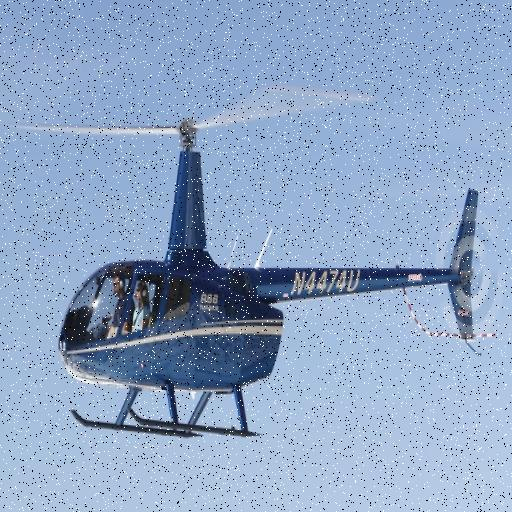helicopter: (15, 82, 510, 448)
